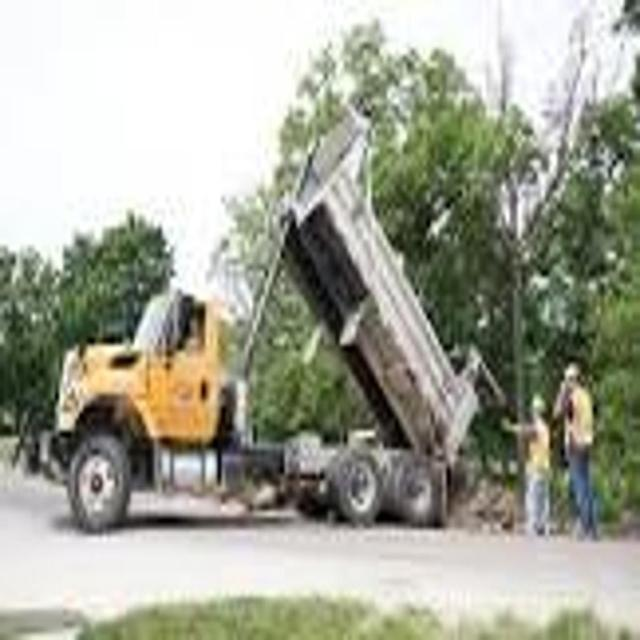dump_truck: (46, 101, 481, 538)
